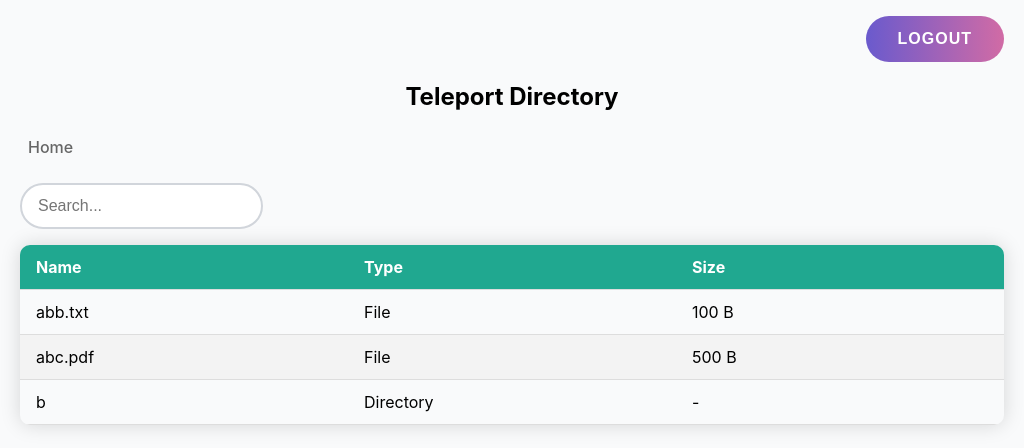
Scenario: Directory Page › should filter rows based on search input and show a single matching row
The image size is (1024, 448).
Expected: the text "abc.pdf" is shown, [20,334,348,379]
Type "abc.pdf" into the field with placeholder "Search..." at (142, 206), box [20,183,263,229]
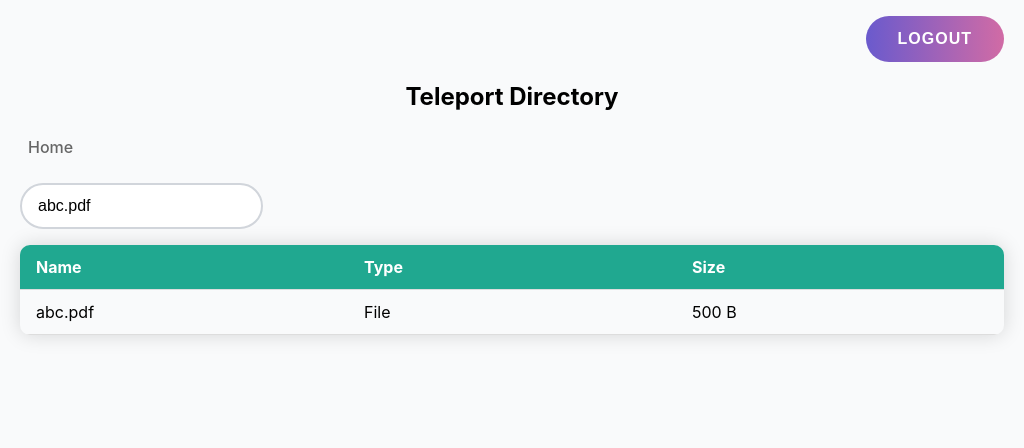
Now the text "abc.pdf" is shown, box [20,289,348,334]
Now the text "abb.txt" is gone
